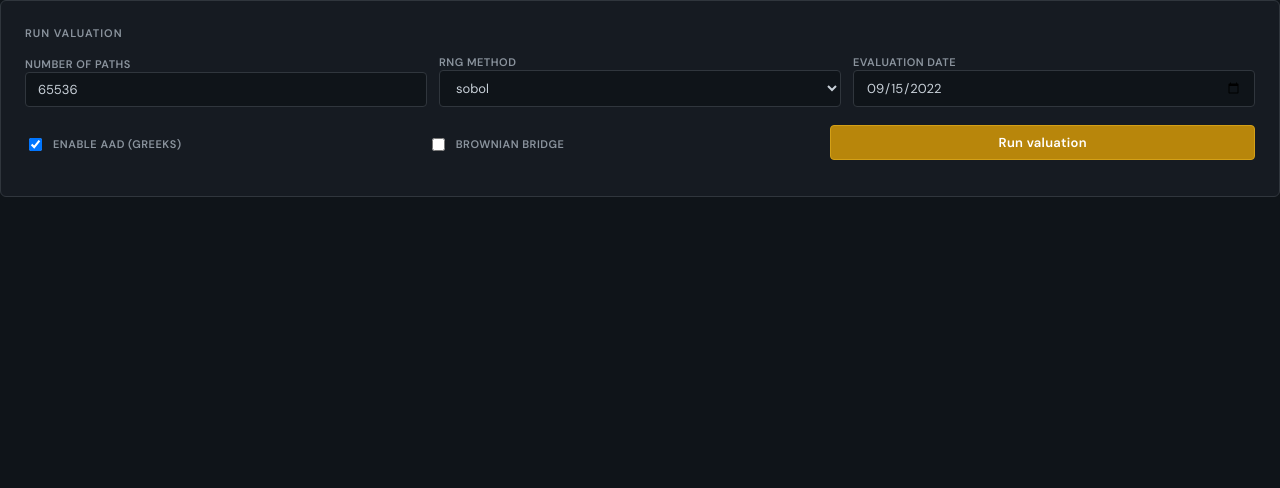
Scenario: ValuationPanel › renders the per-trade table for multi-trade results
This screenshot has width=1280, height=488.
Step 1. Click the button "Run valuation" → (1043, 142), box top-left (830, 125), bottom-right (1255, 160)
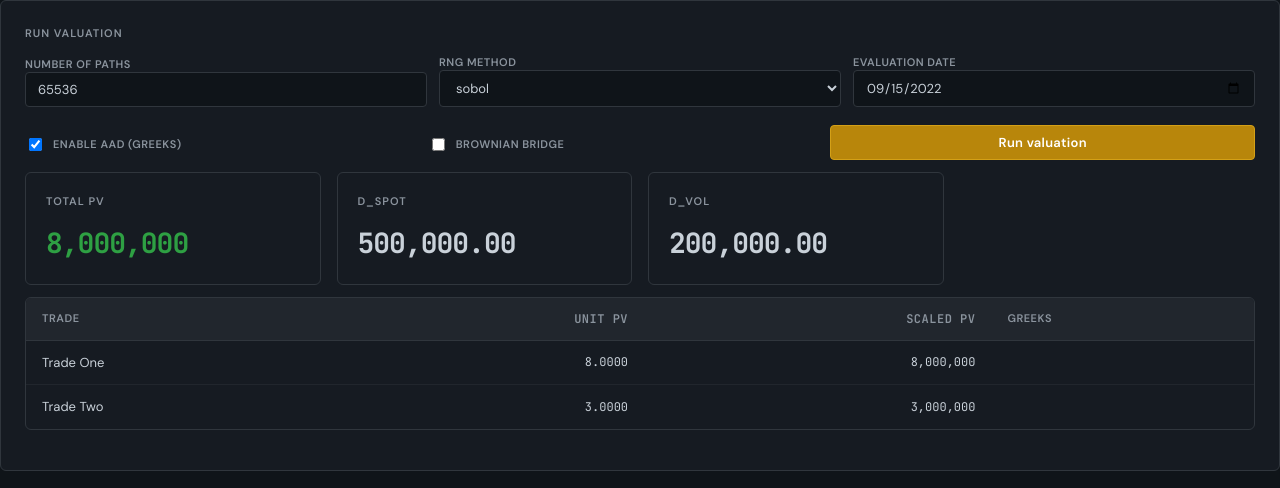
Expected: the column heading "Unit PV" is shown, top-left (350, 298), bottom-right (644, 340)
Expected: the text "Trade One" is shown, top-left (26, 340), bottom-right (350, 384)
Expected: the text "Trade Two" is shown, top-left (26, 384), bottom-right (350, 428)
